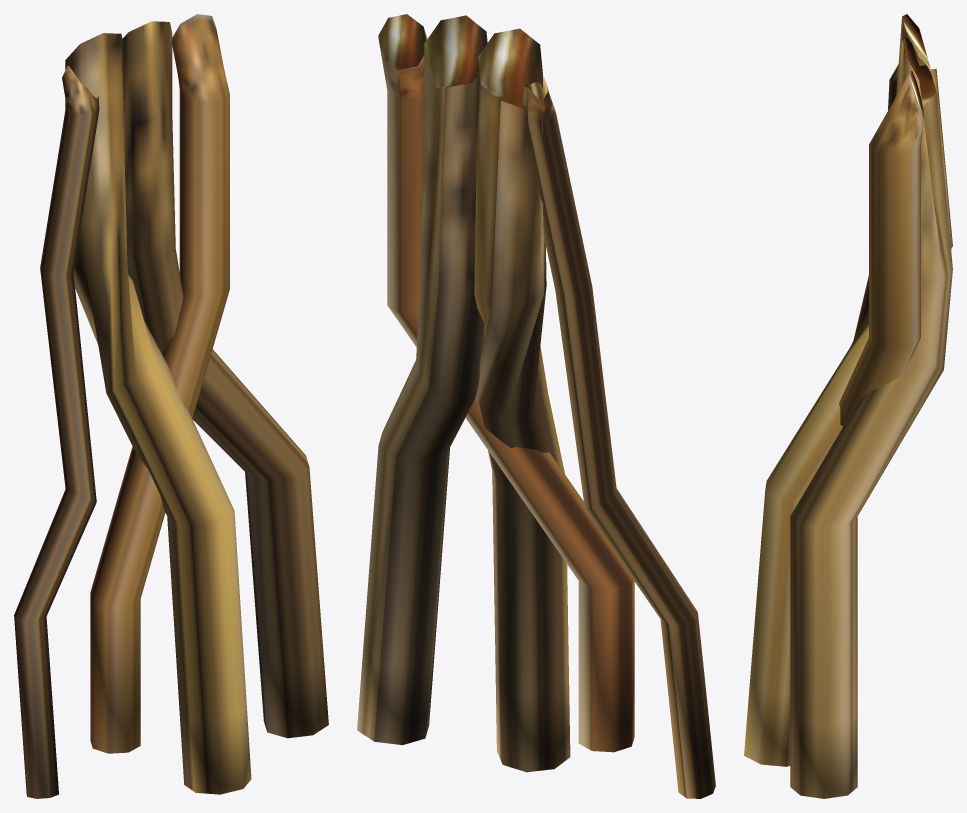
Rendered from SteerainBaseTubes.fbx.
3 views of the same model, side by side, from view 1: azimuth 30°, elevation 25°; view 2: azimuth 150°, elevation 25°; view 3: azimuth 270°, elevation 25° (orthographic). The views are drawn at different scales.
Visible parts, largest first — view 1: PipesTubes; view 2: PipesTubes; view 3: PipesTubes.
Boxes of the visible parts, x1=… form: PipesTubes: x1=14, y1=14, x2=328, y2=798; PipesTubes: x1=357, y1=14, x2=715, y2=798; PipesTubes: x1=744, y1=14, x2=952, y2=798.
Size of the model in its own units: 156 by 346 by 91.68.
